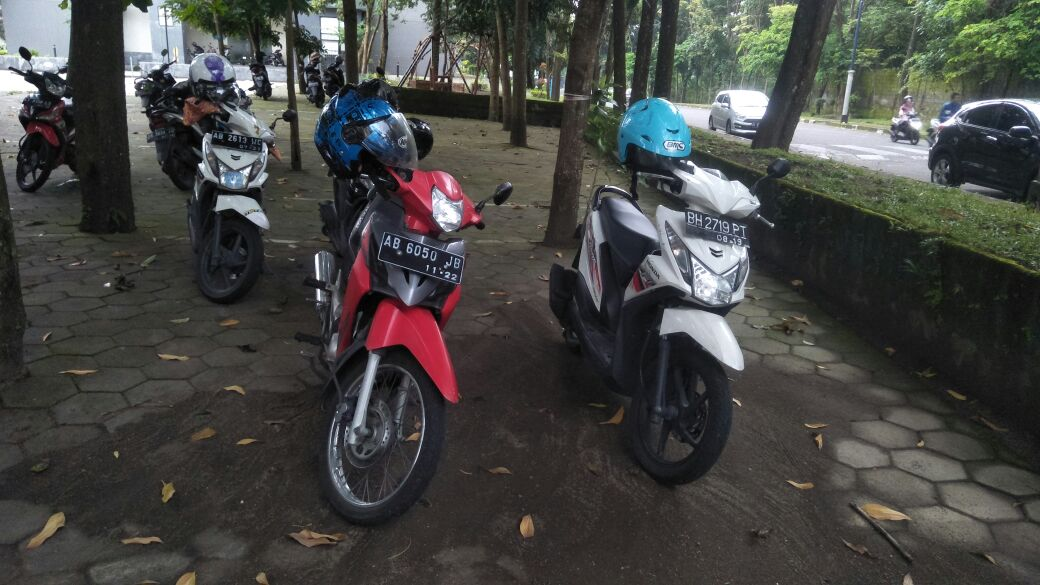plate: (378, 229, 465, 287), (685, 211, 753, 244), (211, 131, 264, 153)
